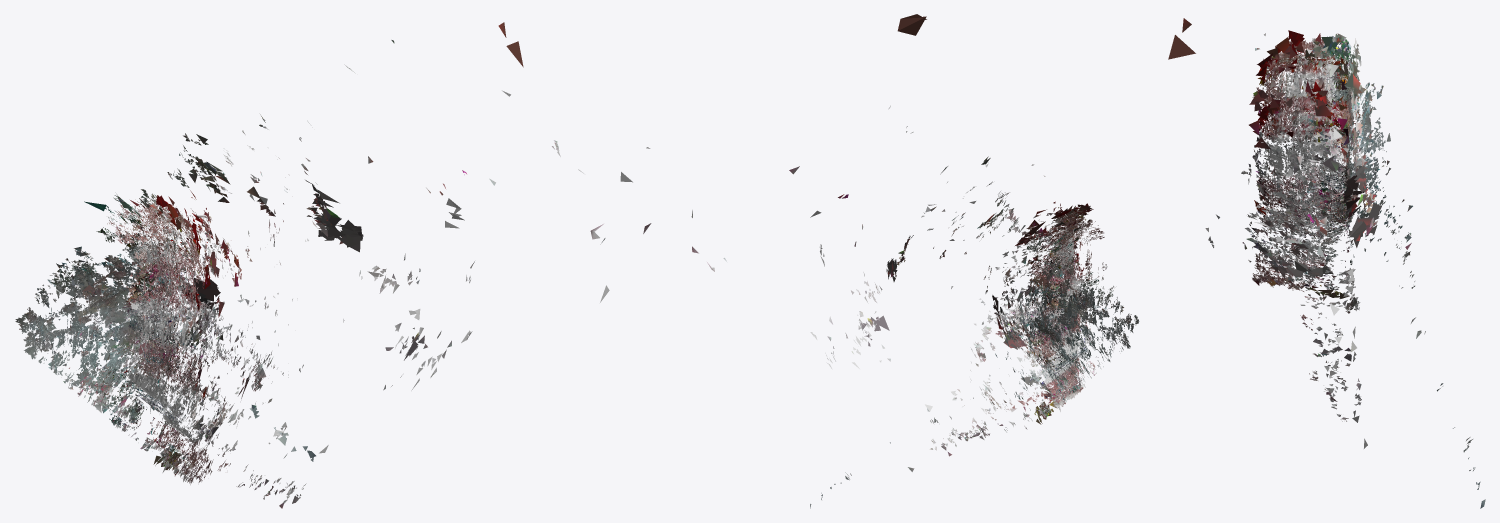
3 views of the same model, side by side, from view 1: azimuth 30°, elevation 25°; view 2: azimuth 150°, elevation 25°; view 3: azimuth 270°, elevation 25° (orthographic). The views are drawn at different scales.
Visible parts, largest first — view 1: geometry_0; view 2: geometry_0; view 3: geometry_0.
Part boxes in pixels (x1,y1,x2,y2): geometry_0: (15,22,651,508); geometry_0: (691,14,1139,508); geometry_0: (1168,18,1485,508).
Bounding box in the file's own units: 38.81 × 33.21 × 19.09.
